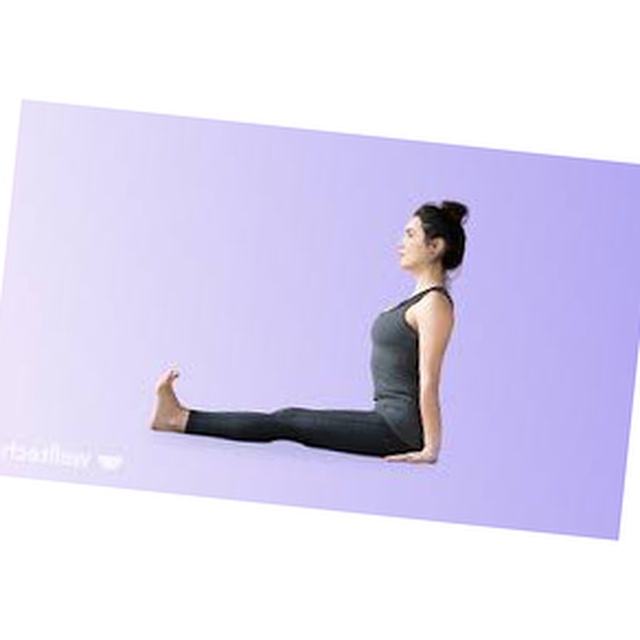Staff_Pose: (150, 197, 471, 464)
